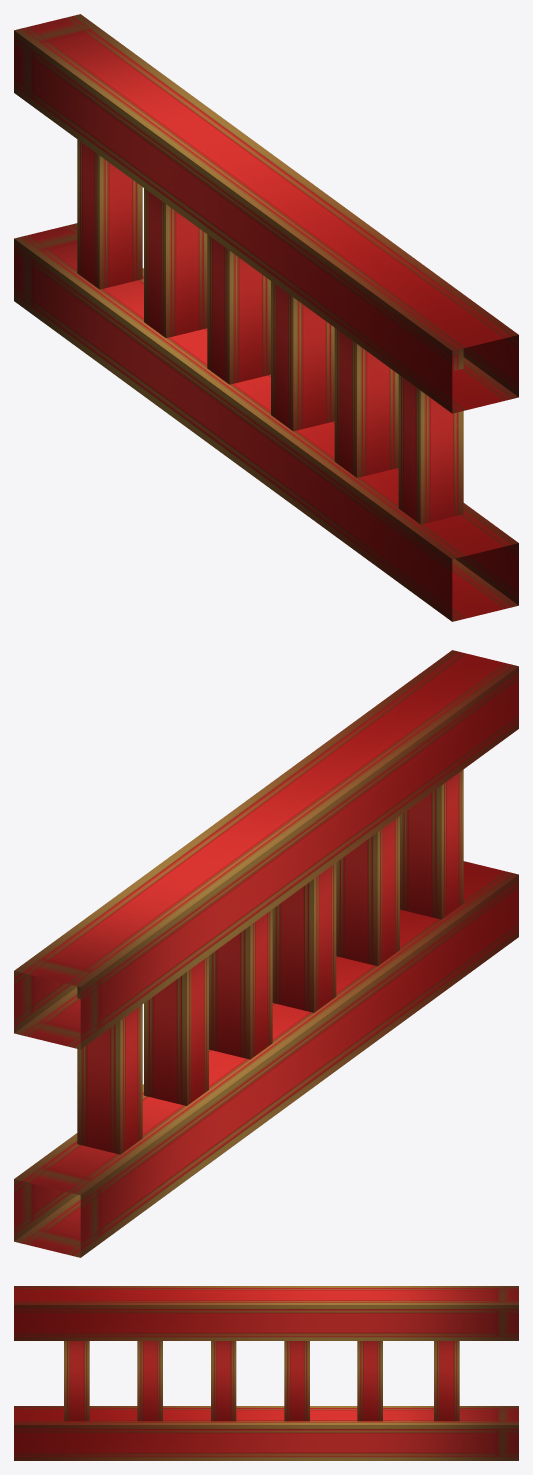
File: MJ_Jsls_08.FBX
3 views of the same model, one above another, from view 1: azimuth 30°, elevation 25°; view 2: azimuth 150°, elevation 25°; view 3: azimuth 270°, elevation 25° (orthographic). The views are drawn at different scales.
Parts seen in each view (by area): view 1: Object61; view 2: Object61; view 3: Object61.
Part boxes in pixels (box(x1,y1,x2,y2)): Object61: box(14, 14, 518, 621); Object61: box(14, 650, 518, 1257); Object61: box(14, 1286, 518, 1460).
Bounding box in the file's own units: 0.6096 × 2.37 × 6.94.
